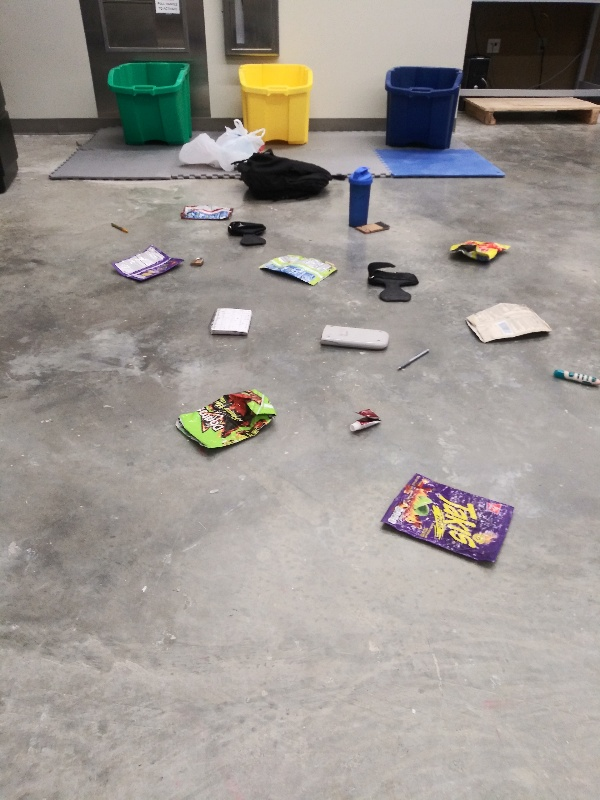bag: (377, 470, 514, 573), (169, 387, 286, 456), (456, 300, 556, 347), (108, 240, 190, 285), (256, 249, 341, 290), (445, 238, 515, 266), (175, 200, 237, 225)
